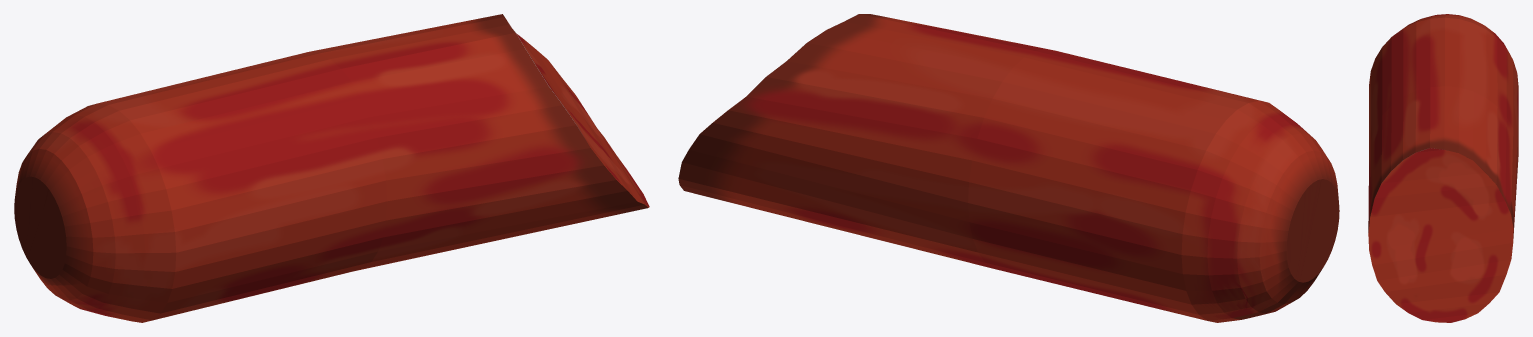
The model's file is peperoni.fbx.
3 views of the same model, side by side, from view 1: azimuth 30°, elevation 25°; view 2: azimuth 150°, elevation 25°; view 3: azimuth 270°, elevation 25° (orthographic). The views are drawn at different scales.
Parts seen in each view (by area): view 1: Cylinder; view 2: Cylinder; view 3: Cylinder.
Boxes of the visible parts, bbox=[...] form: Cylinder: bbox=[14, 14, 649, 322]; Cylinder: bbox=[678, 14, 1339, 322]; Cylinder: bbox=[1368, 14, 1518, 322].
Size of the model in its own units: 251 by 82.06 by 81.8.
